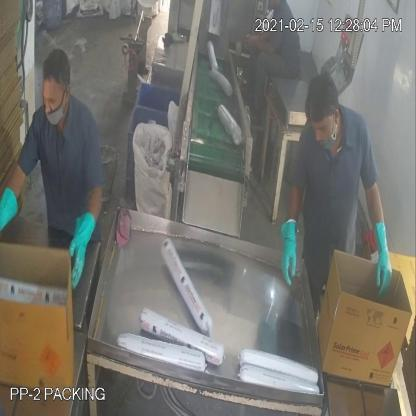glove: (58, 194, 99, 306), (276, 207, 306, 294), (368, 213, 396, 306)
no_glove: (243, 25, 278, 58)
